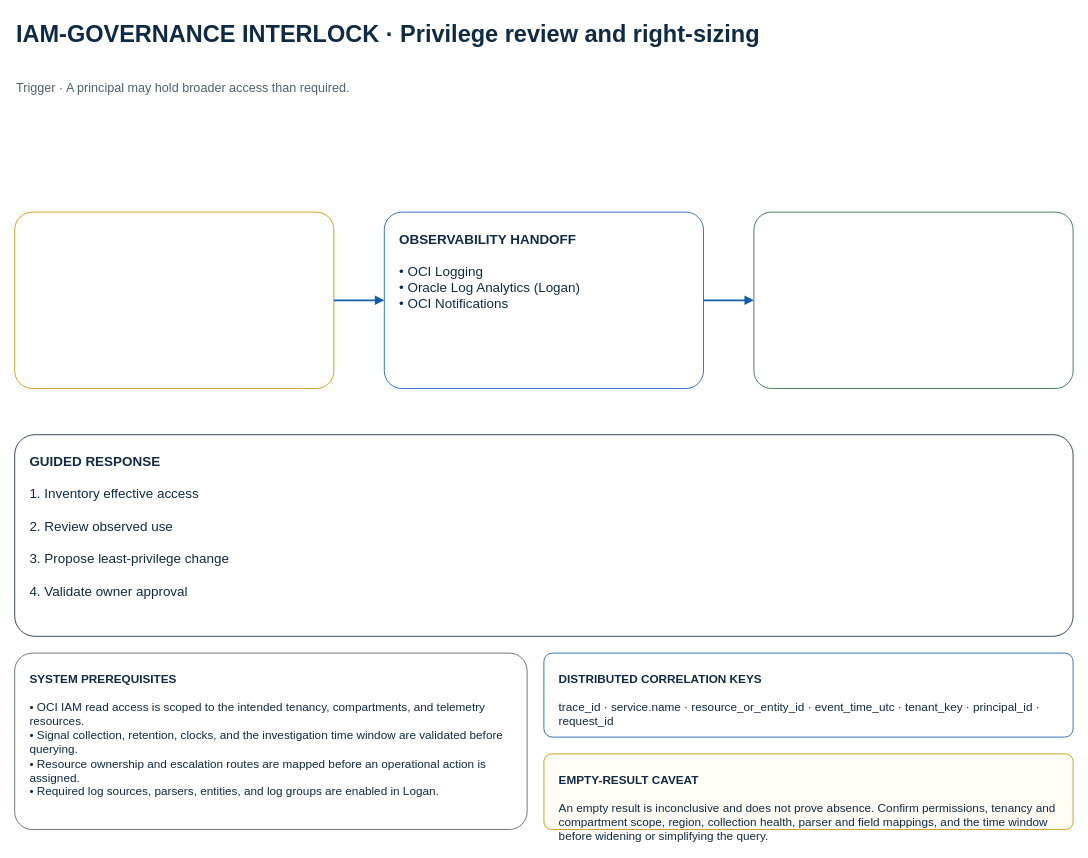
This 1088x858 diagram has some shape labels left out. Each missing label, with the centre of its shape:
OPERATIONAL OUTCOME • Identify inactive or excessive access with owner context.: point (913, 299)
SOURCE EVIDENCE • IAM policy context • Audit activity • Resource ownership: point (174, 299)
